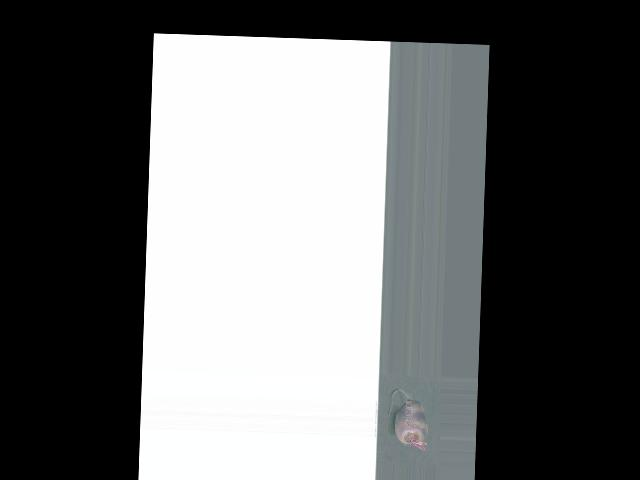beet: (386, 389, 429, 452)
